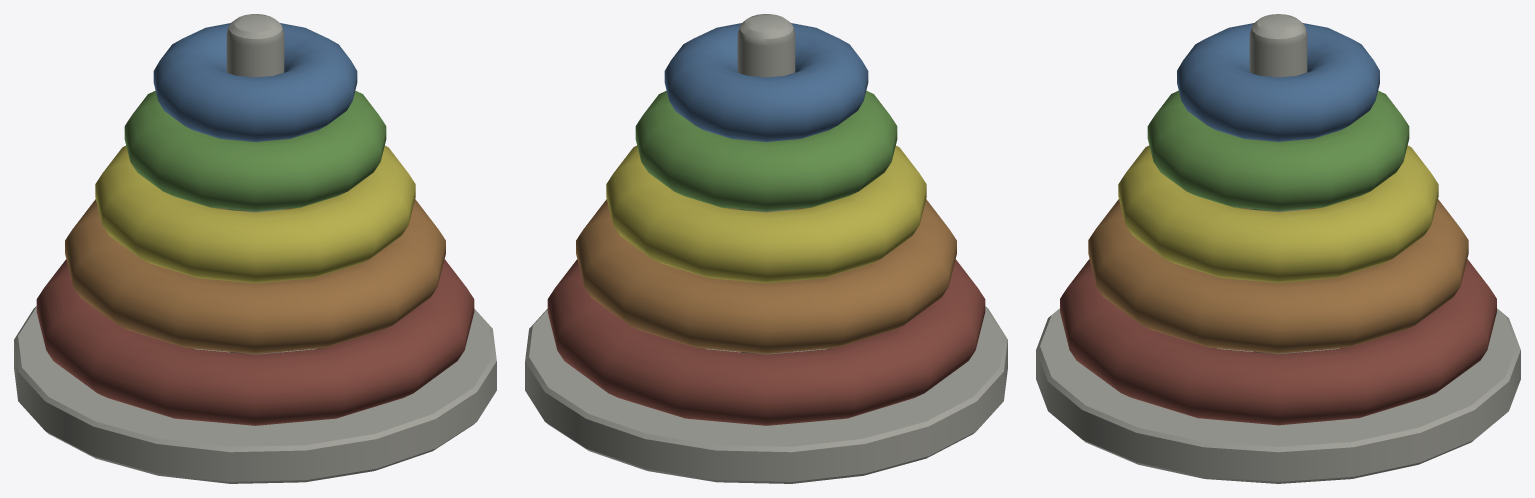
Rendered from Toy_Rings.fbx.
3 renders of one model, left to right at view 1: azimuth 30°, elevation 25°; view 2: azimuth 150°, elevation 25°; view 3: azimuth 270°, elevation 25°, orthographic.
Parts seen in each view (by area): view 1: Base, Ring_Red, Ring_Orange, Ring_Yellow, Ring_Green, Ring_Blue; view 2: Base, Ring_Red, Ring_Orange, Ring_Yellow, Ring_Green, Ring_Blue; view 3: Base, Ring_Red, Ring_Orange, Ring_Yellow, Ring_Green, Ring_Blue.
Part boxes in pixels (bbox=[...]): Base: bbox=[14, 14, 496, 483]; Ring_Red: bbox=[36, 259, 474, 425]; Ring_Orange: bbox=[65, 199, 445, 354]; Ring_Yellow: bbox=[95, 145, 415, 283]; Ring_Green: bbox=[124, 90, 386, 211]; Ring_Blue: bbox=[153, 23, 357, 141]; Base: bbox=[525, 14, 1007, 483]; Ring_Red: bbox=[547, 259, 985, 425]; Ring_Orange: bbox=[576, 199, 956, 354]; Ring_Yellow: bbox=[606, 145, 926, 283]; Ring_Green: bbox=[635, 90, 897, 211]; Ring_Blue: bbox=[664, 23, 868, 141]; Base: bbox=[1036, 14, 1520, 483]; Ring_Red: bbox=[1060, 259, 1496, 425]; Ring_Orange: bbox=[1088, 199, 1468, 353]; Ring_Yellow: bbox=[1118, 145, 1438, 282]; Ring_Green: bbox=[1147, 90, 1409, 211]; Ring_Blue: bbox=[1177, 23, 1379, 141].
Size of the model in its own units: 76.77 by 63.2 by 76.77.
